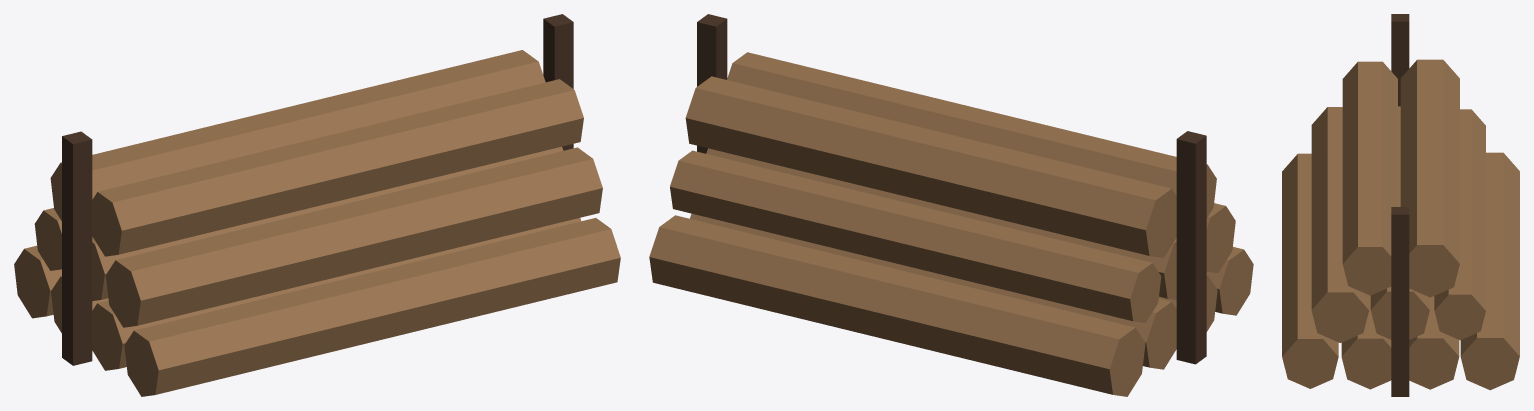
Rendered from log_pile.glb.
3 views of the same model, side by side, from view 1: azimuth 30°, elevation 25°; view 2: azimuth 150°, elevation 25°; view 3: azimuth 270°, elevation 25° (orthographic). The views are drawn at different scales.
Parts seen in each view (by area): view 1: log_pile_lod0; view 2: log_pile_lod0; view 3: log_pile_lod0.
Boxes of the visible parts, x1=… form: log_pile_lod0: x1=14, y1=14, x2=620, y2=396; log_pile_lod0: x1=649, y1=14, x2=1253, y2=396; log_pile_lod0: x1=1282, y1=14, x2=1519, y2=396.
Size of what is drawn, in the model's own units: 2.6 by 1.11 by 1.3.
